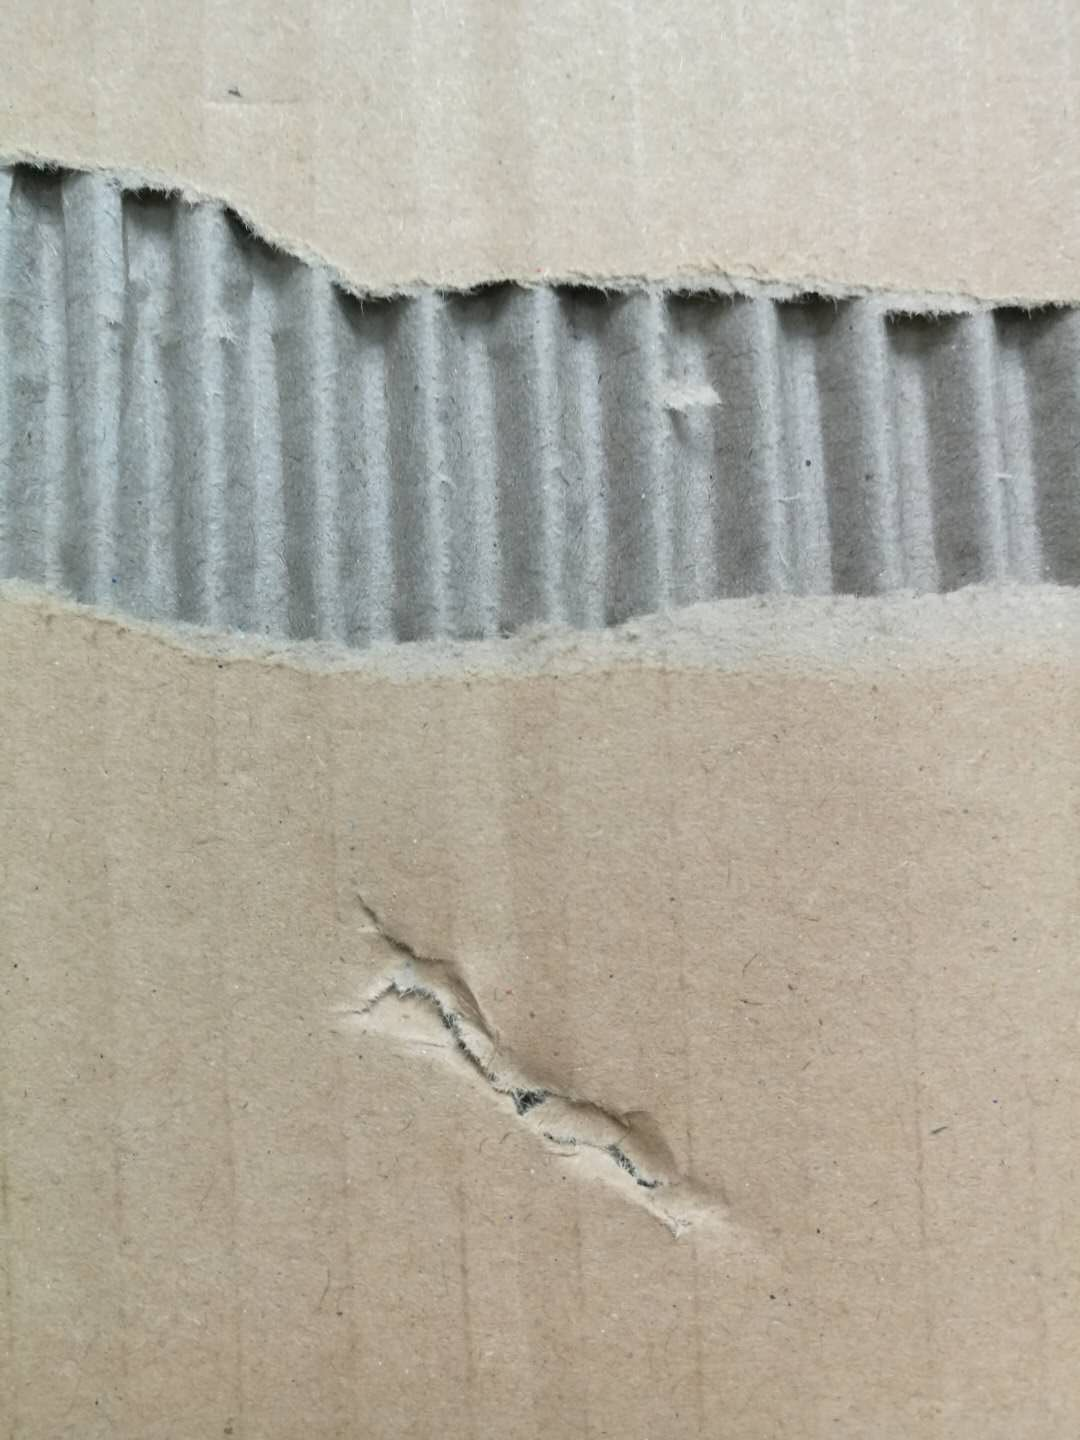defect: (2, 107, 1080, 763), (303, 861, 811, 1307)
